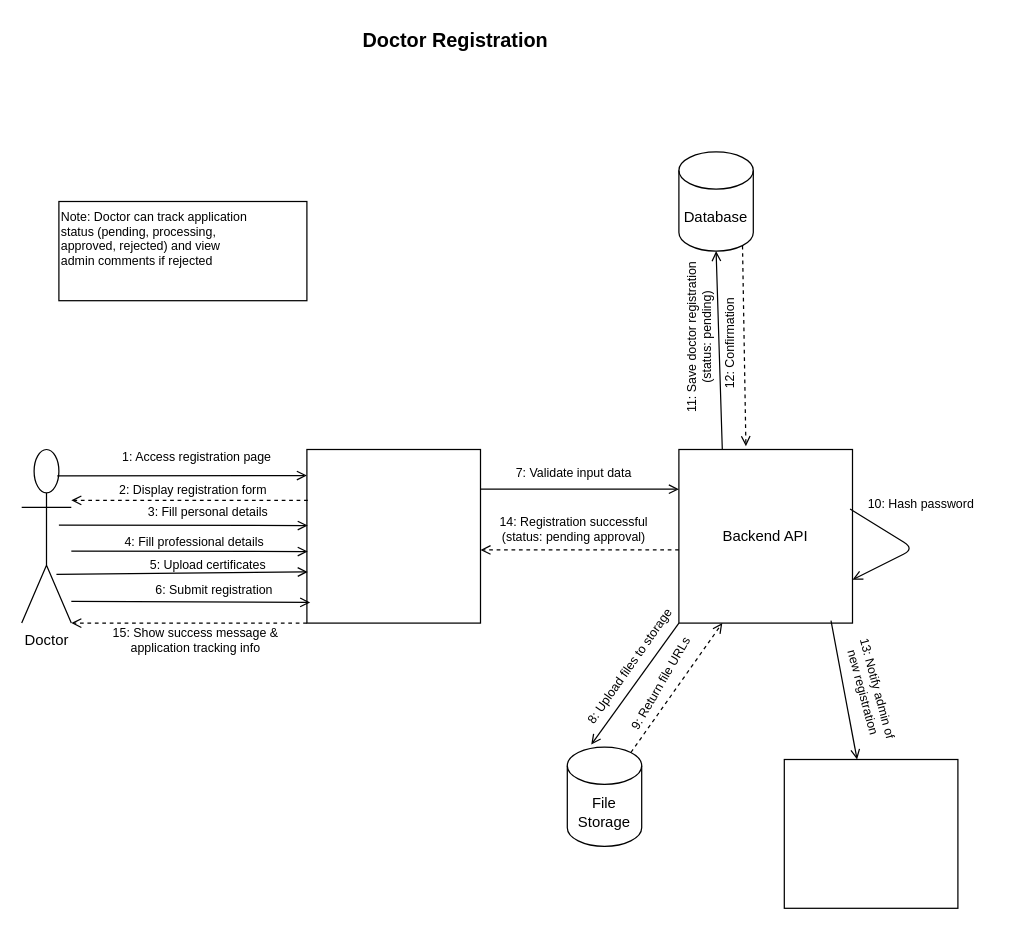
This 1011x930 diagram has some shape labels left out. The shapes that lost their labels are listed below. From the top down, each one's centre as x and y in pixels, then its label:
(393,535): Registration UI
(870,833): Admin System
